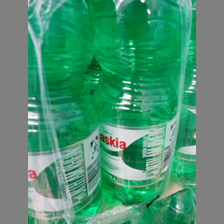water: (92, 1, 190, 206), (28, 1, 103, 224)
